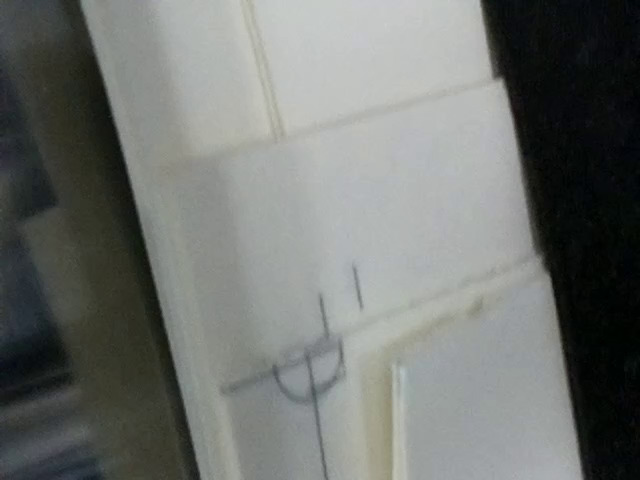not_sure: (210, 293, 353, 407)
